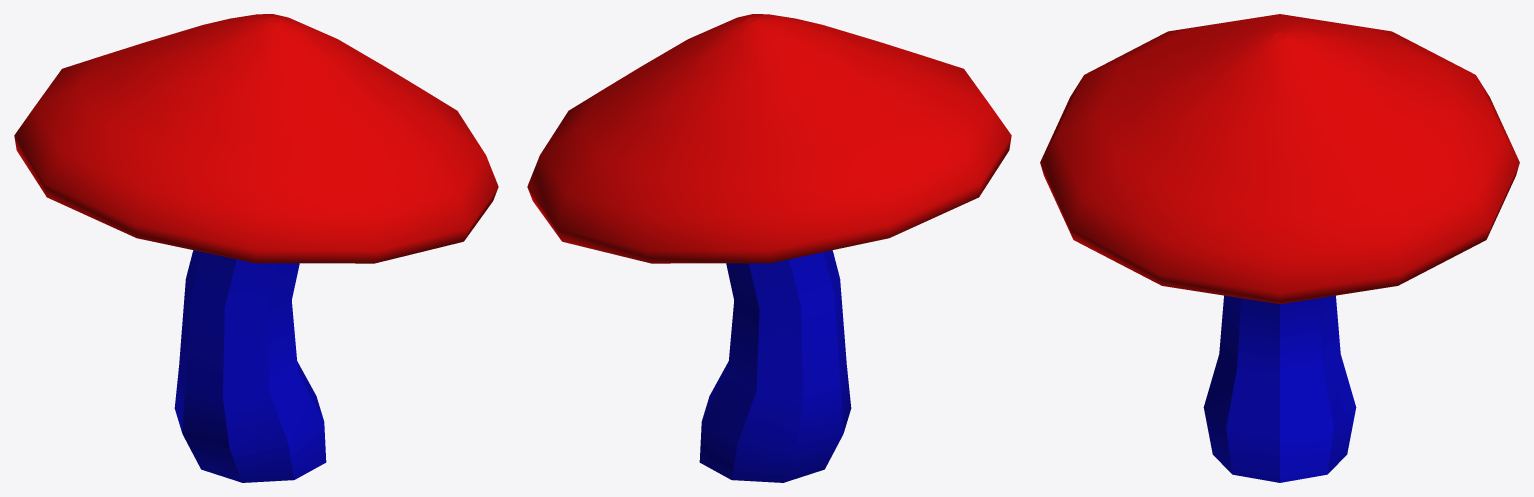
Rendered from SM_Mushroom.fbx.
3 views of the same model, side by side, from view 1: azimuth 30°, elevation 25°; view 2: azimuth 150°, elevation 25°; view 3: azimuth 270°, elevation 25° (orthographic).
Parts seen in each view (by area): view 1: mushroom_geo; view 2: mushroom_geo; view 3: mushroom_geo.
Boxes of the visible parts, <box> form: mushroom_geo: <box>14,14,498,482</box>; mushroom_geo: <box>527,14,1011,482</box>; mushroom_geo: <box>1040,14,1519,482</box>.
Size of the model in its own units: 116 by 114 by 116.
